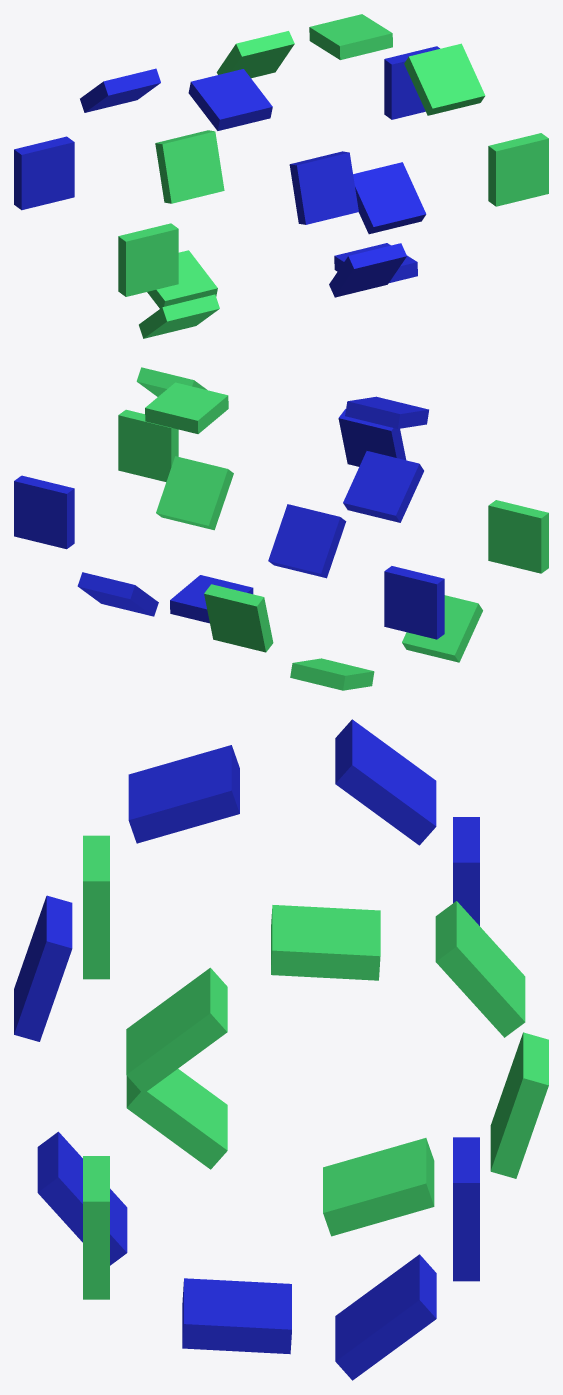
The model's file is spiral.glb.
The picture shows the model from 3 angles, top to bottom: view 1: azimuth 30°, elevation 25°; view 2: azimuth 150°, elevation 25°; view 3: azimuth 270°, elevation 25°; orthographic projection. The views are drawn at different scales.
Visible parts, largest first — view 1: Cube.007, Cube.001; view 2: Cube.001, Cube.007; view 3: Cube.007, Cube.001.
Boxes of the visible parts, x1=… form: Cube.007: x1=118, y1=14, x2=548, y2=338; Cube.001: x1=14, y1=46, x2=439, y2=297; Cube.001: x1=14, y1=396, x2=444, y2=639; Cube.007: x1=118, y1=367, x2=548, y2=690; Cube.007: x1=83, y1=835, x2=548, y2=1299; Cube.001: x1=14, y1=719, x2=479, y2=1380.
Size of what is drawn, in the model's own units: 16 by 9.09 by 9.88.
